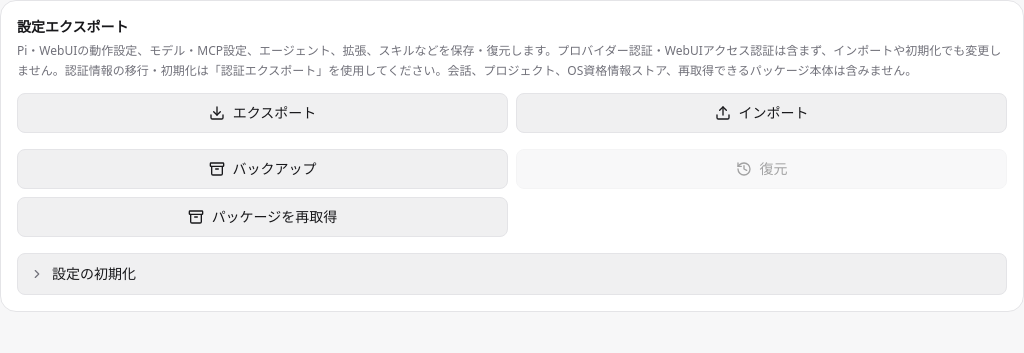
ProfileSettings › uses settings wording in the export confirmation and fallback error
What coordinates should you click on to do the following:
click the button "エクスポート"
I would click on:
 (262, 113)
Its box is [17,93,508,133].
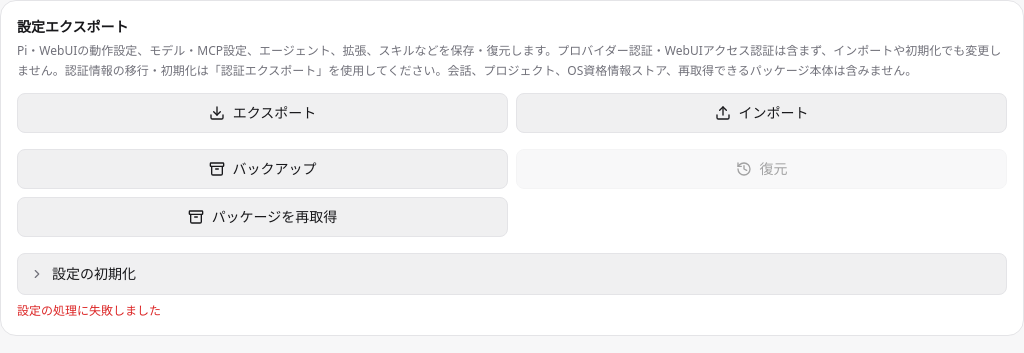
Result: the message reads "設定の処理に失敗しました" at [17,302,161,319]
